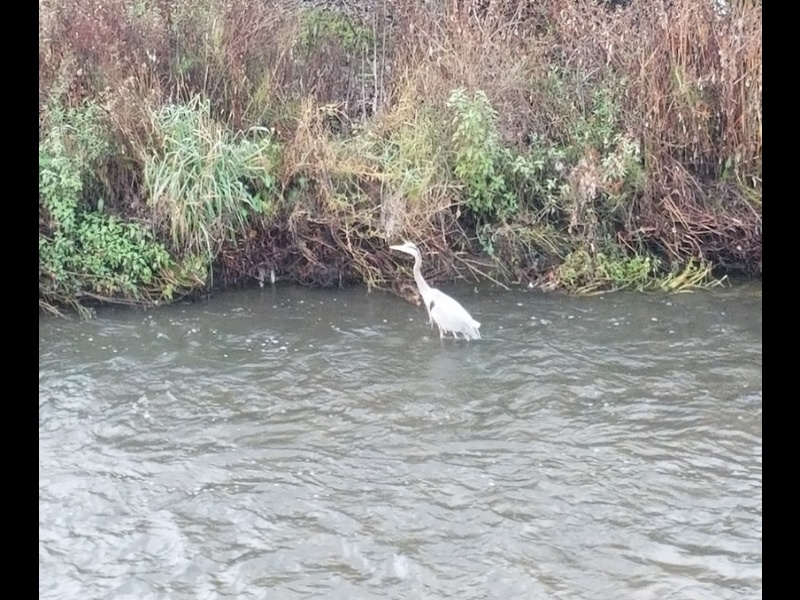heron: (386, 239, 480, 341)
